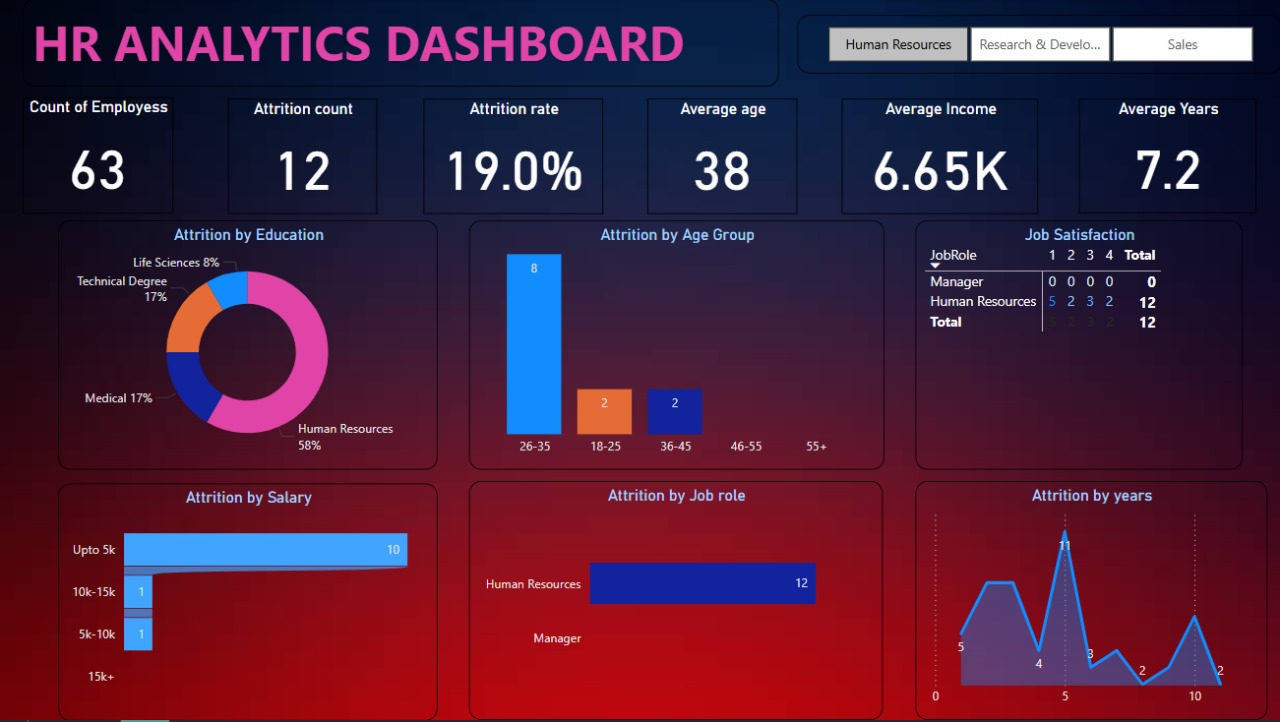

This screenshot's page, from the dashboard's own definition file:
{"tool":"powerbi","page":{"name":"Page 1","canvas":[1280,720],"ordinal":0},"visuals":[{"type":"card","title":"Count of Employess","fields":{"Values":["Sum(HR_Analytics.EmployeeCount)"]},"box":[24.3,98.6,150,115.7],"z":0},{"type":"card","title":"Attrition count","fields":{"Values":["Sum(HR_Analytics.Attrition count)"]},"box":[229.4,99.4,148.5,115.3],"z":1000},{"type":"card","title":"Attrition rate","fields":{"Values":["HR_Analytics.Attrition rate"]},"box":[424.5,99.4,179.1,115.3],"z":2000},{"type":"card","title":"Average age","fields":{"Values":["HR_Analytics.Average age"]},"box":[647.9,99.4,149.7,115.3],"z":3000},{"type":"card","title":"Average Income","fields":{"Values":["Avg(HR_Analytics.MonthlyIncome)"]},"box":[841.7,99.4,196.3,115.3],"z":4000},{"type":"card","title":"Average Years","fields":{"Values":["Avg(HR_Analytics.YearsAtCompany)"]},"box":[1078.6,100,177.1,114.3],"z":6000},{"type":"donutChart","title":"Attrition by Education","fields":{"Y":["Sum(HR_Analytics.Attrition count)"],"Category":["HR_Analytics.EducationField"]},"box":[60,221.4,378.6,248.6],"z":7000},{"type":"columnChart","title":"Attrition by Age Group","fields":{"Y":["Sum(HR_Analytics.Attrition count)"],"Category":["HR_Analytics.AgeGroup"],"Series":["HR_Analytics.AgeGroup"]},"box":[470,221.4,414.3,248.6],"z":8000},{"type":"pivotTable","title":"Job Satisfaction","fields":{"Rows":["HR_Analytics.JobRole"],"Columns":["HR_Analytics.JobSatisfaction"],"Values":["Sum(HR_Analytics.Attrition count)"]},"box":[915.7,221.4,325.7,248.6],"z":9000},{"type":"barChart","title":"Attrition by Salary","fields":{"Category":["HR_Analytics.SalarySlab"],"Y":["Sum(HR_Analytics.Attrition count)"]},"box":[60,482.9,378.6,237.1],"z":10000},{"type":"barChart","title":"Attrition by Job role","fields":{"Series":["HR_Analytics.Attrition count"],"Y":["Sum(HR_Analytics.Attrition count)"],"Category":["HR_Analytics.JobRole"]},"box":[470,481.4,412.9,238.6],"z":11000},{"type":"areaChart","title":"Attrition by years","fields":{"Category":["HR_Analytics.YearsAtCompany"],"Y":["CountNonNull(HR_Analytics.JobRole)"]},"box":[929.1,481.9,350.6,238.1],"z":12000},{"type":"slicer","fields":{"Values":["HR_Analytics.Department"]},"box":[797.1,15.7,482.9,58.6],"z":13000},{"type":"textbox","box":[24.3,0,754.3,87.1],"z":14000}]}

Visuals, with their boxes in screenshot pixels (x1, y1, x2, y2), scaled from the page's 1280x720 canvas onto the 1280x722 screenshot:
"Count of Employess" card: {"x1": 24, "y1": 99, "x2": 174, "y2": 215}
"Attrition count" card: {"x1": 229, "y1": 100, "x2": 378, "y2": 215}
"Attrition rate" card: {"x1": 424, "y1": 100, "x2": 604, "y2": 215}
"Average age" card: {"x1": 648, "y1": 100, "x2": 798, "y2": 215}
"Average Income" card: {"x1": 842, "y1": 100, "x2": 1038, "y2": 215}
"Average Years" card: {"x1": 1079, "y1": 100, "x2": 1256, "y2": 215}
"Attrition by Education" donutChart: {"x1": 60, "y1": 222, "x2": 439, "y2": 471}
"Attrition by Age Group" columnChart: {"x1": 470, "y1": 222, "x2": 884, "y2": 471}
"Job Satisfaction" pivotTable: {"x1": 916, "y1": 222, "x2": 1241, "y2": 471}
"Attrition by Salary" barChart: {"x1": 60, "y1": 484, "x2": 439, "y2": 721}
"Attrition by Job role" barChart: {"x1": 470, "y1": 483, "x2": 883, "y2": 721}
"Attrition by years" areaChart: {"x1": 929, "y1": 483, "x2": 1279, "y2": 721}
slicer - HR_Analytics.Department: {"x1": 797, "y1": 16, "x2": 1279, "y2": 75}
textbox: {"x1": 24, "y1": 0, "x2": 779, "y2": 87}
